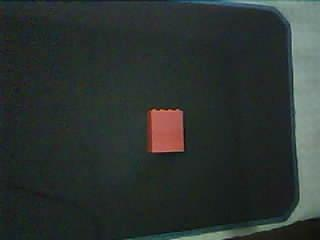lego: (146, 107, 186, 154)
